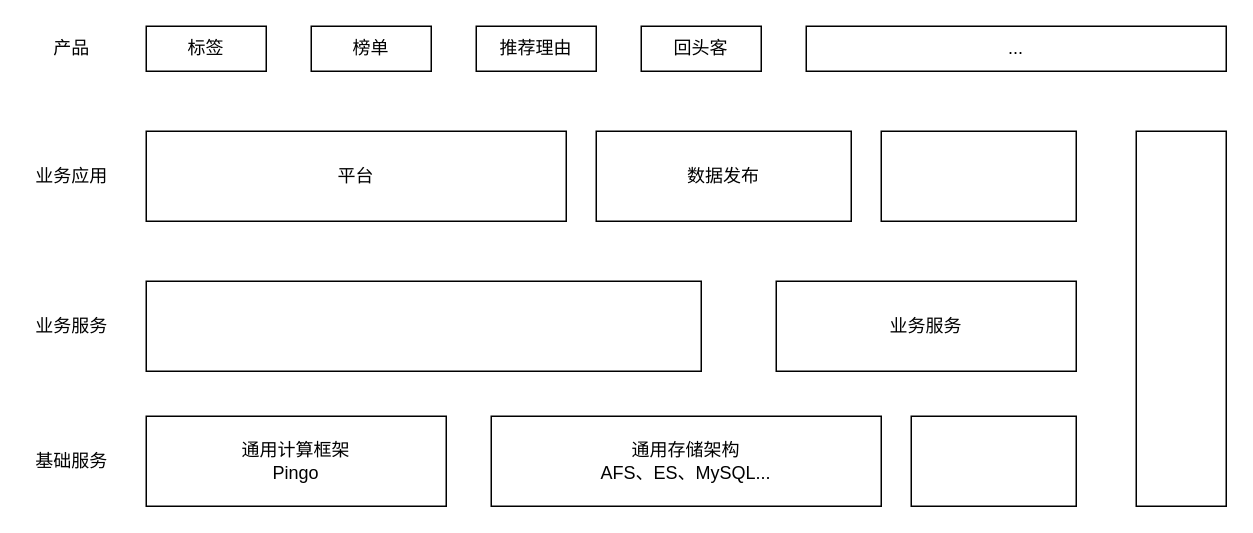
Image size: 1253x533. Some labels were removed from this diagram. Here are the shapes that lost their labels. From the top down, the centre of each, then its label:
At (978,175): "干预机制".
At (423,325): "策略计算".
At (1180,318): "监控".
At (993,460): "通用算子".
